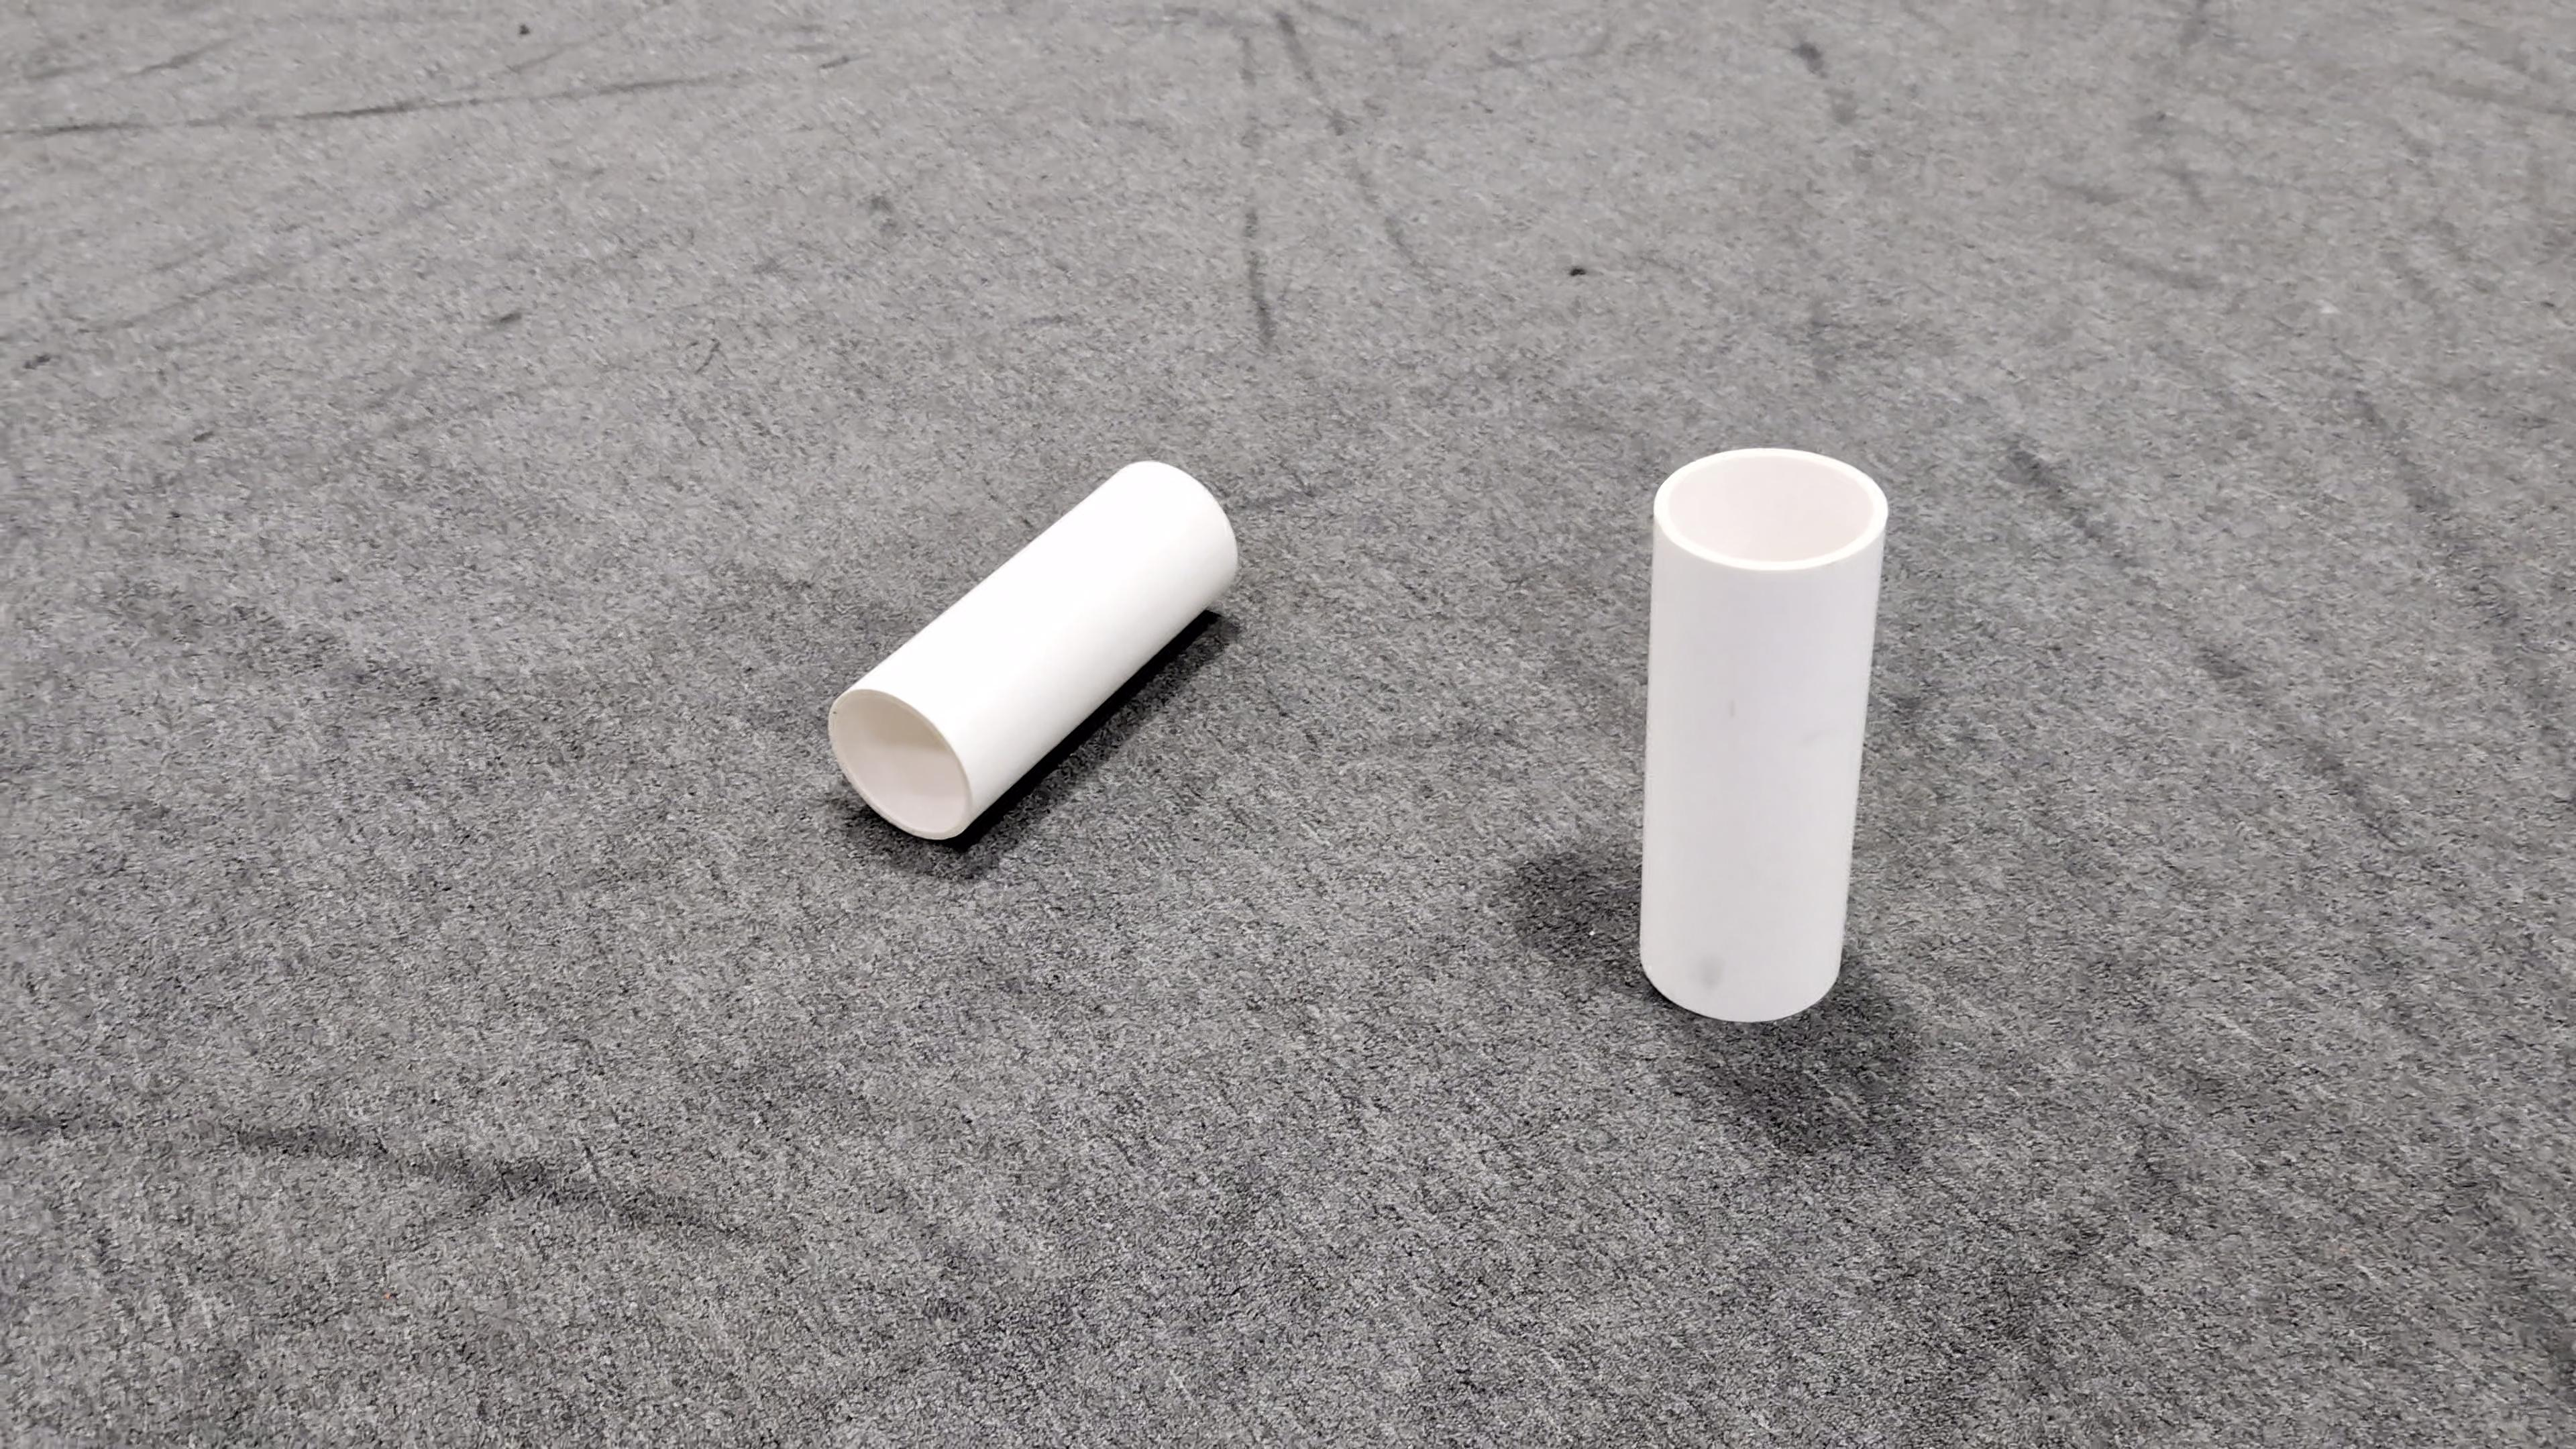coral: (830, 455, 1242, 840), (1629, 446, 1893, 1021)
